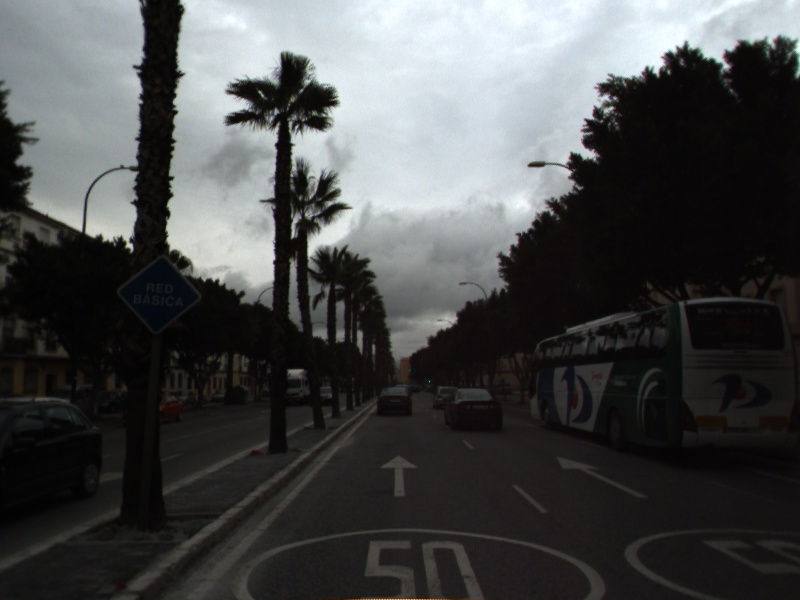STRAIGHT: (554, 454, 651, 500), (378, 453, 421, 499)
